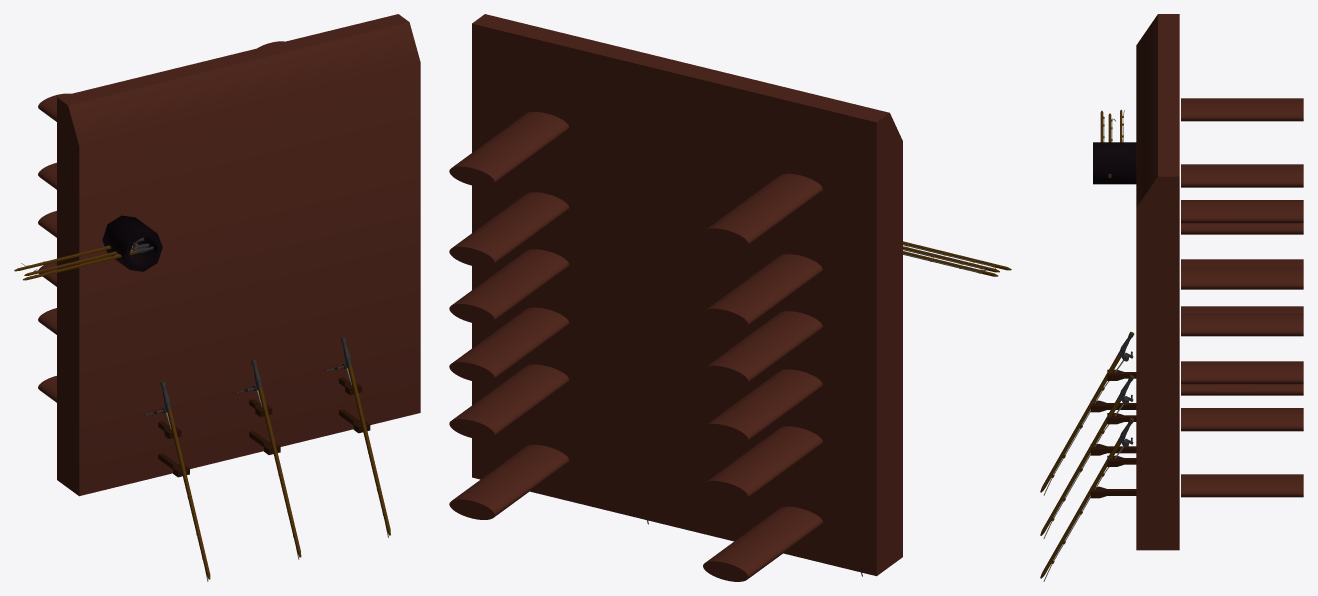
File: loaded_holder.fbx
3 views of the same model, side by side, from view 1: azimuth 30°, elevation 25°; view 2: azimuth 150°, elevation 25°; view 3: azimuth 270°, elevation 25° (orthographic). The views are drawn at different scales.
Parts seen in each view (by area): view 1: Cylinder, Cube, FishingRod.007, FishingRod.004, FishingRod.005; view 2: Cylinder; view 3: Cylinder, Cube, FishingRod.005, FishingRod.007, FishingRod.004, Cube.005, Cube.002.
Part boxes in pixels (x1,y1,x2,y2): Cylinder: (38, 14, 420, 496); Cube: (102, 215, 162, 271); FishingRod.007: (144, 382, 210, 581); FishingRod.004: (235, 359, 301, 559); FishingRod.005: (325, 337, 390, 537); Cylinder: (449, 14, 902, 581); Cylinder: (1136, 14, 1303, 550); Cube: (1093, 142, 1136, 184); FishingRod.005: (1040, 417, 1134, 581); FishingRod.007: (1040, 331, 1134, 495); FishingRod.004: (1040, 375, 1134, 538); Cube.005: (1090, 486, 1136, 498); Cube.002: (1090, 444, 1136, 455).
Size of the model in its own units: 2164 by 2260 by 1219.
